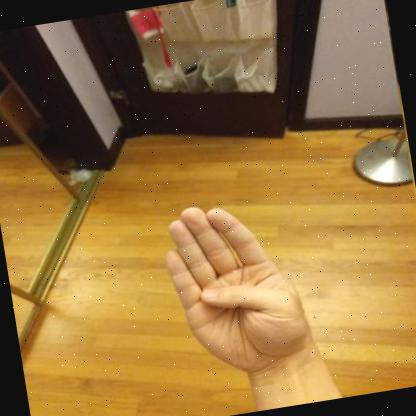B: (165, 207, 327, 381)
